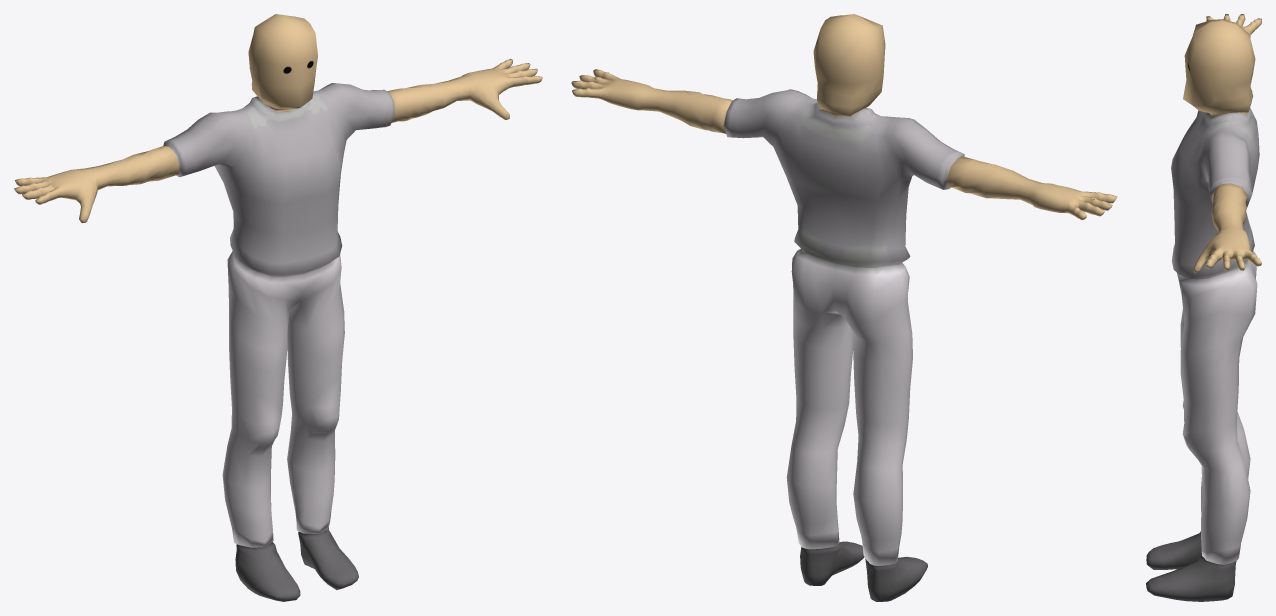
Rendered from immue system Lymph.fbx.
The picture shows the model from 3 angles, left to right: view 1: azimuth 30°, elevation 25°; view 2: azimuth 150°, elevation 25°; view 3: azimuth 270°, elevation 25°; orthographic projection. The views are drawn at different scales.
Parts seen in each view (by area): view 1: Lymph; view 2: Lymph; view 3: Lymph.
Part boxes in pixels (x1,y1,x2,y2): Lymph: (14, 14, 542, 601); Lymph: (571, 14, 1117, 601); Lymph: (1146, 14, 1261, 601).
Bounding box in the file's own units: 179 × 184 × 34.53.
1 material, 1 textured.
